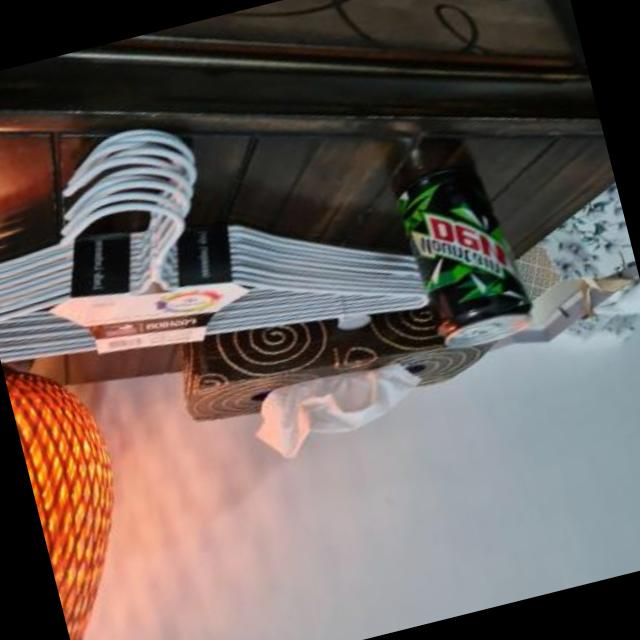cardboard paper: (259, 364, 418, 457)
metal: (396, 139, 530, 348)
